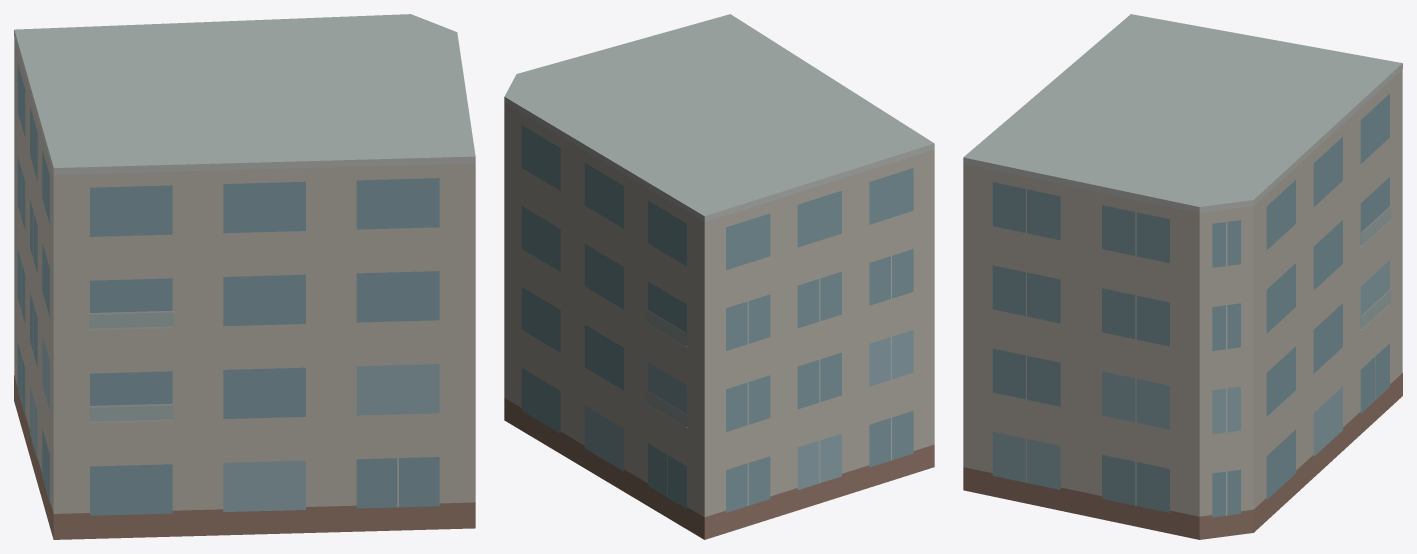
Rendered from survey-upis-33004357.glb.
The picture shows the model from 3 angles, left to right: view 1: azimuth 30°, elevation 25°; view 2: azimuth 150°, elevation 25°; view 3: azimuth 270°, elevation 25°; orthographic projection. The views are drawn at different scales.
Parts seen in each view (by area): view 1: survey-upis-33004357.tmp; view 2: survey-upis-33004357.tmp; view 3: survey-upis-33004357.tmp.
Part boxes in pixels (x1,y1,x2,y2): survey-upis-33004357.tmp: (14, 14, 475, 539); survey-upis-33004357.tmp: (504, 14, 934, 539); survey-upis-33004357.tmp: (963, 14, 1402, 539).
Bounding box in the file's own units: 16.55 × 13.3 × 15.93.
